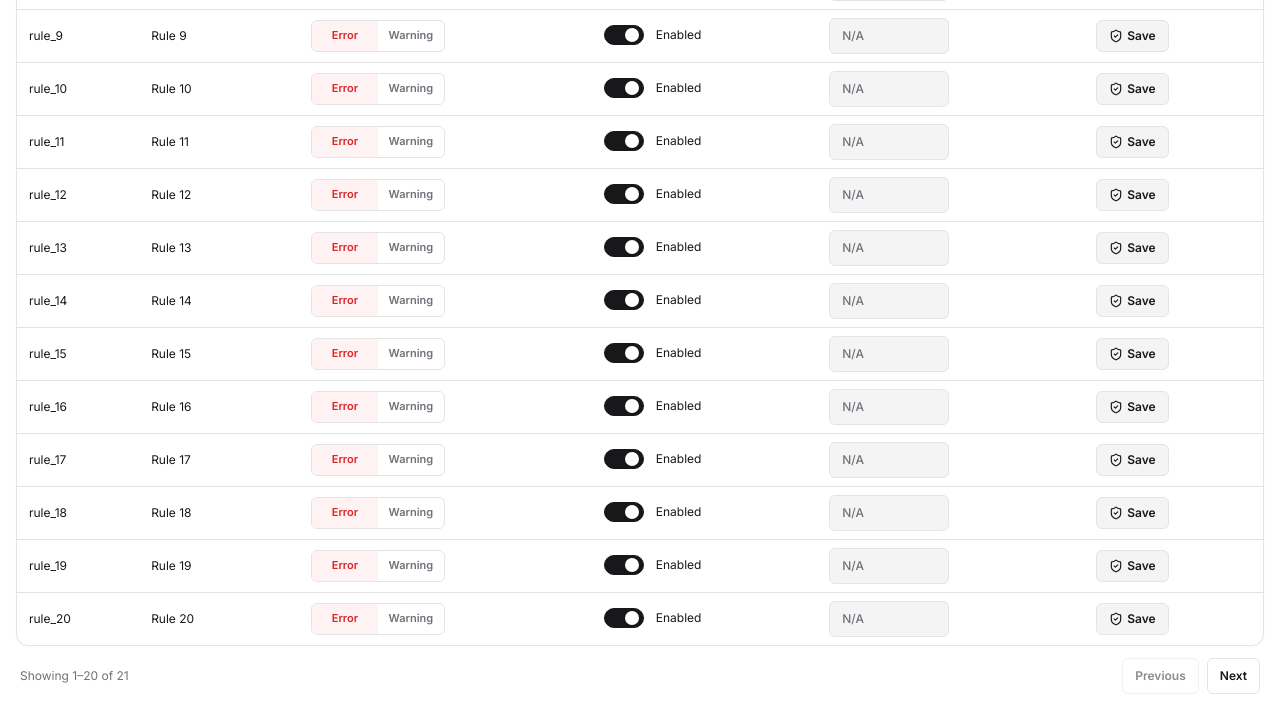
Scenario: SQLReviewRulesPage › paginates the SQL review rule list
(page scrolled)
Expected: the text "rule_21" is not shown
Click the button "Next".
click(1233, 676)  # box [1207, 658, 1260, 694]
(page scrolled)
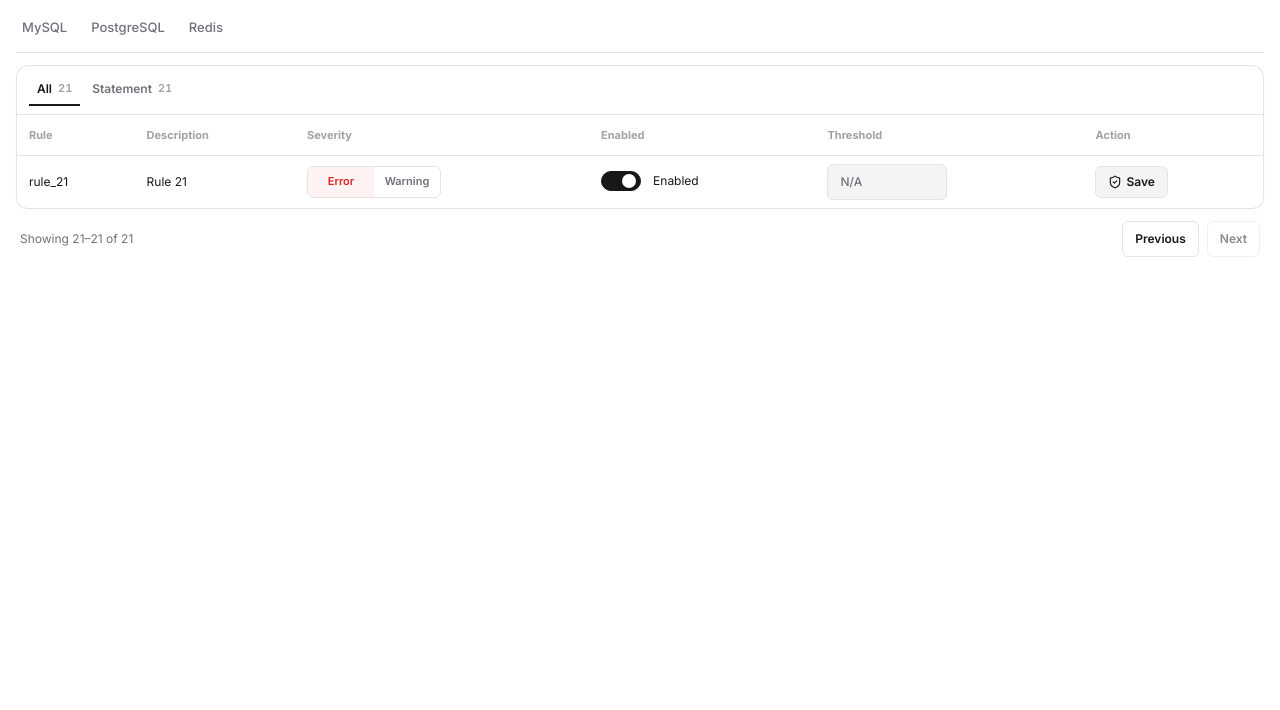
Result: the text "rule_21" is shown at [17, 155, 135, 208]
Result: the text "rule_1" is gone
